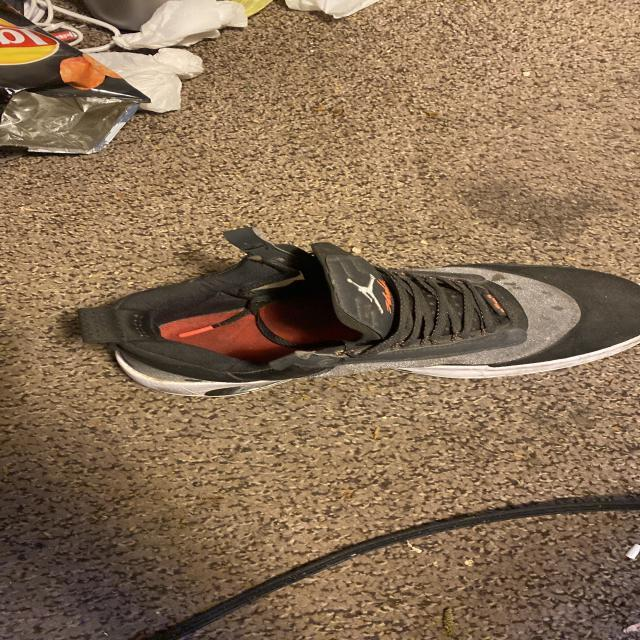shoe: (101, 239, 640, 399)
